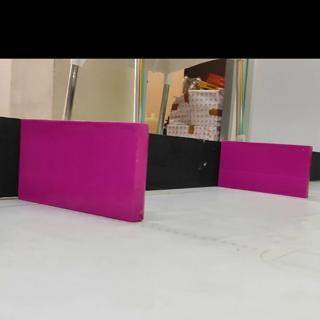xparking: (24, 123, 143, 211), (221, 146, 310, 196)
